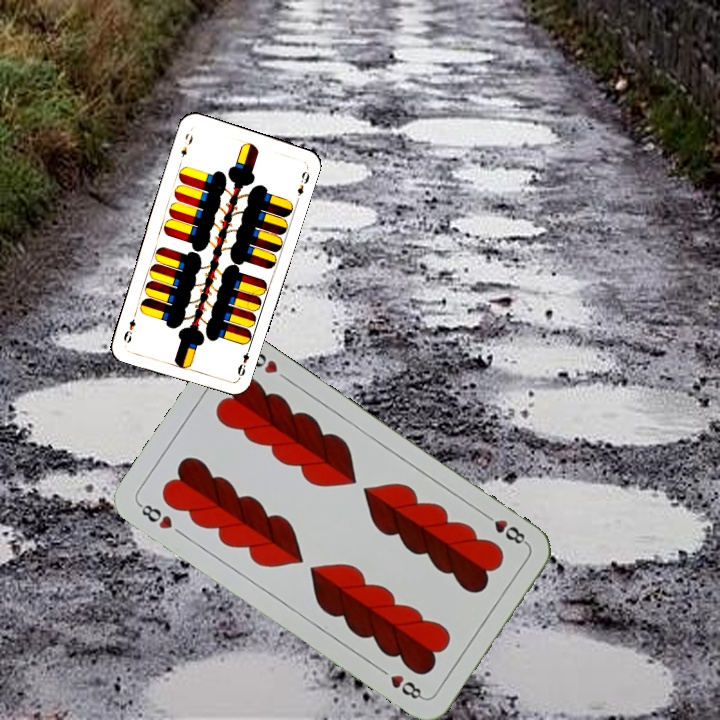E9: (233, 343, 253, 379), (177, 129, 195, 160)
H8: (478, 509, 531, 548), (134, 499, 175, 532)
